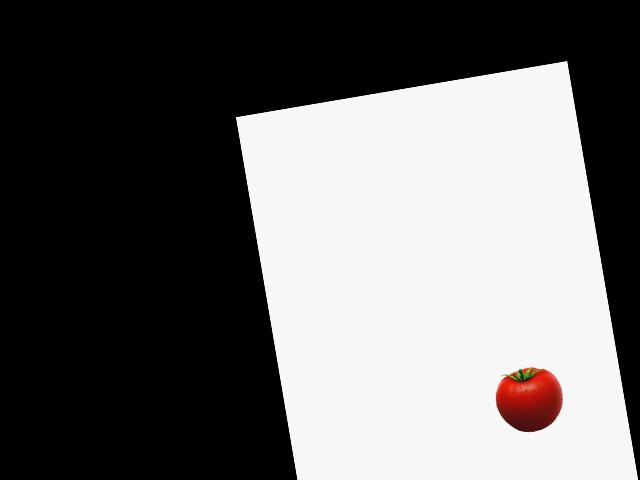tomato: (491, 364, 560, 436)
